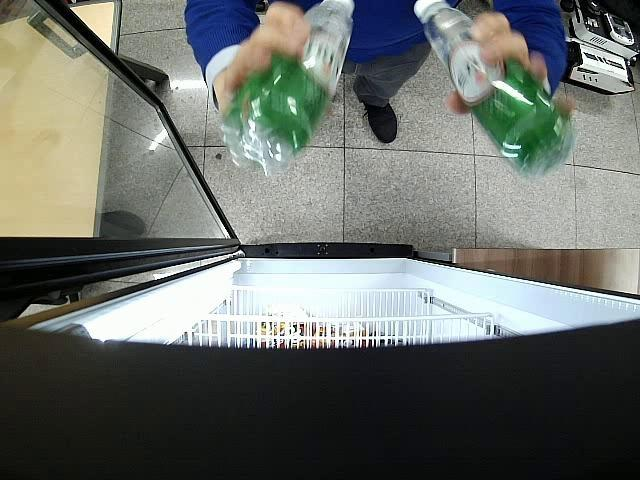18_trevi: (414, 0, 574, 180), (222, 3, 354, 176)
